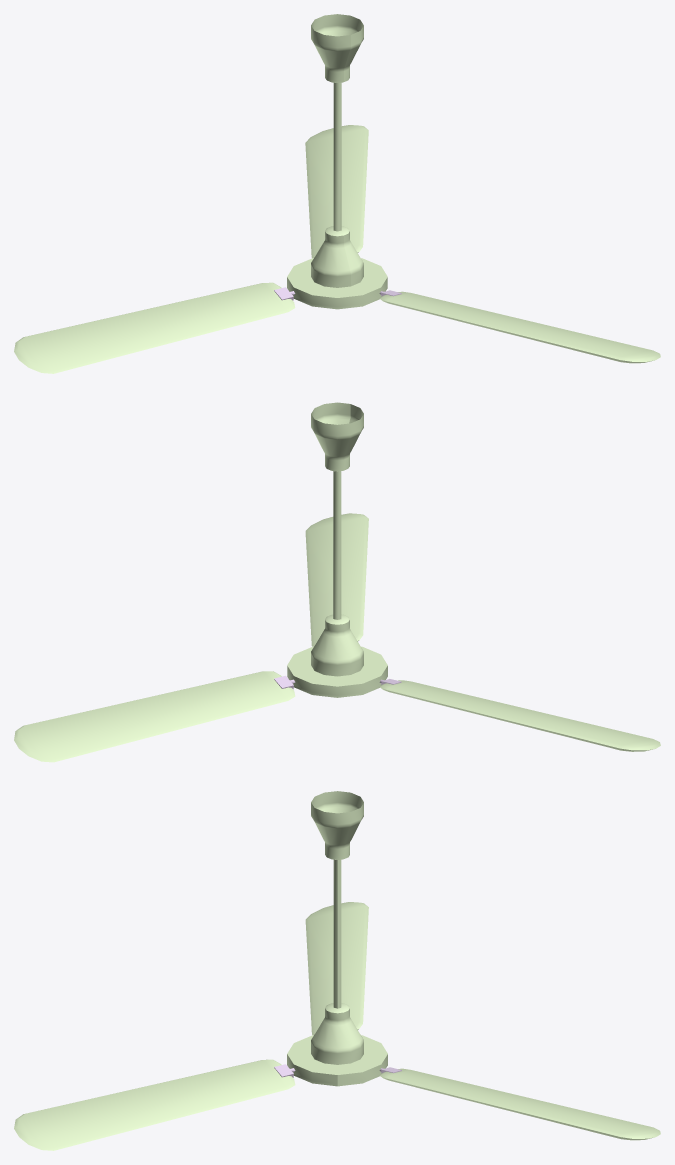
File: fan2.fbx
3 renders of one model, top to bottom at view 1: azimuth 30°, elevation 25°; view 2: azimuth 150°, elevation 25°; view 3: azimuth 270°, elevation 25°, orthographic.
Visible parts, largest first — view 1: fan; view 2: fan; view 3: fan.
Boxes of the visible parts, x1,y1,x2,y2 form: fan: (14,14,660,373); fan: (14,402,660,762); fan: (14,791,660,1150).
Size of the model in its own units: 218 by 116 by 248.
